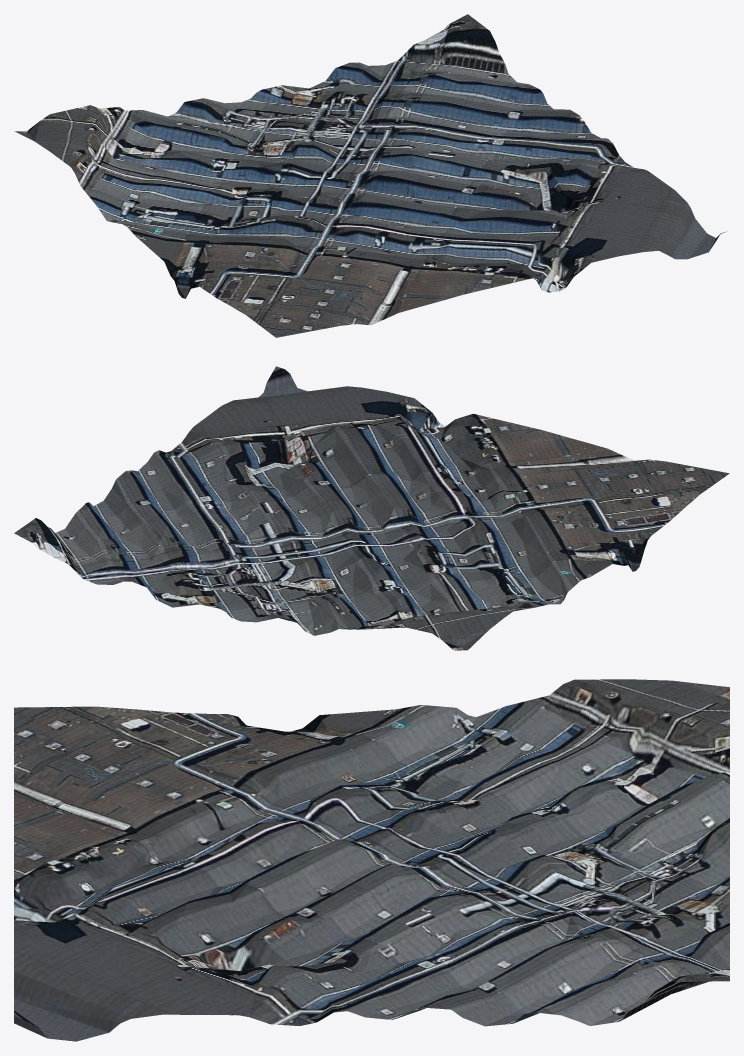
File: map_15_8182_13784.dae
3 renders of one model, top to bottom at view 1: azimuth 30°, elevation 25°; view 2: azimuth 150°, elevation 25°; view 3: azimuth 270°, elevation 25°, orthographic. The views are drawn at different scales.
Parts seen in each view (by area): view 1: Ter0; view 2: Ter0; view 3: Ter0.
Boxes of the visible parts, x1=… form: Ter0: x1=15, y1=14, x2=726, y2=337; Ter0: x1=14, y1=366, x2=729, y2=650; Ter0: x1=14, y1=679, x2=729, y2=1041.
Bounding box in the file's own units: 63.88 × 63.88 × 6.98.
3 materials, 3 textured.
